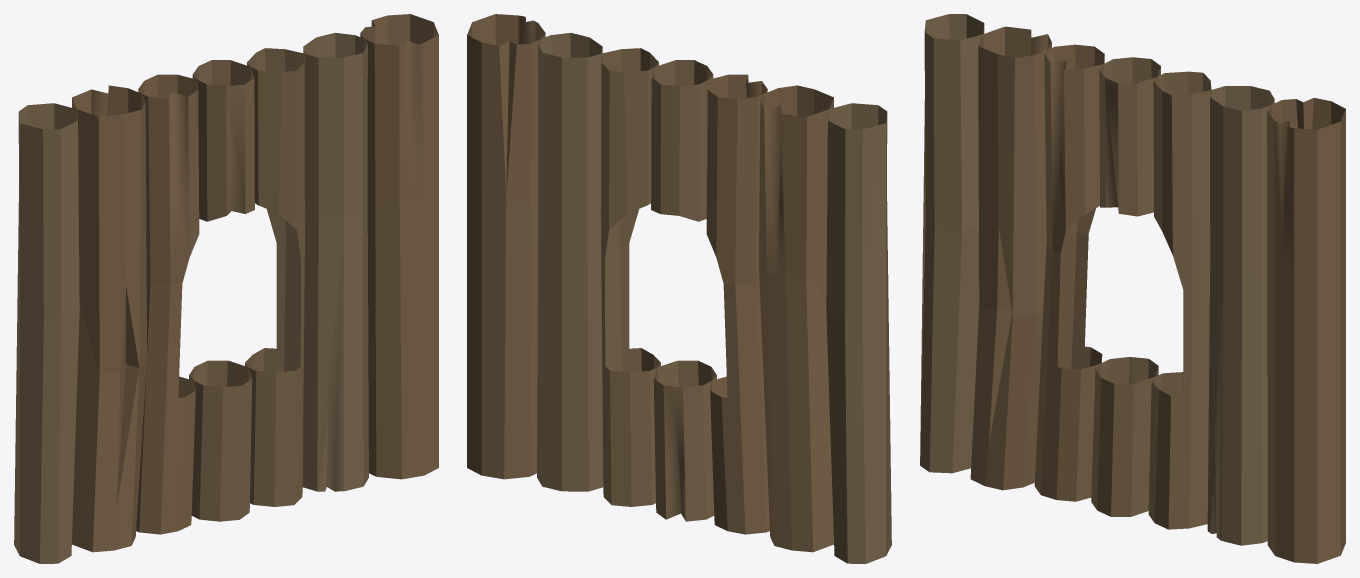
The model's file is rpgpp_ag_wall_02_3x3_window_c.fbx.
3 renders of one model, left to right at view 1: azimuth 30°, elevation 25°; view 2: azimuth 150°, elevation 25°; view 3: azimuth 330°, elevation 25°, orthographic.
Parts seen in each view (by area): view 1: rpgpp_ag_wall_02_3x3_window_c; view 2: rpgpp_ag_wall_02_3x3_window_c; view 3: rpgpp_ag_wall_02_3x3_window_c.
Part boxes in pixels (left/top/right/bottom): rpgpp_ag_wall_02_3x3_window_c: left=14, top=14, right=438, bottom=563; rpgpp_ag_wall_02_3x3_window_c: left=467, top=14, right=891, bottom=563; rpgpp_ag_wall_02_3x3_window_c: left=920, top=14, right=1345, bottom=563.
Bounding box in the file's own units: 3 × 3 × 0.4706.
